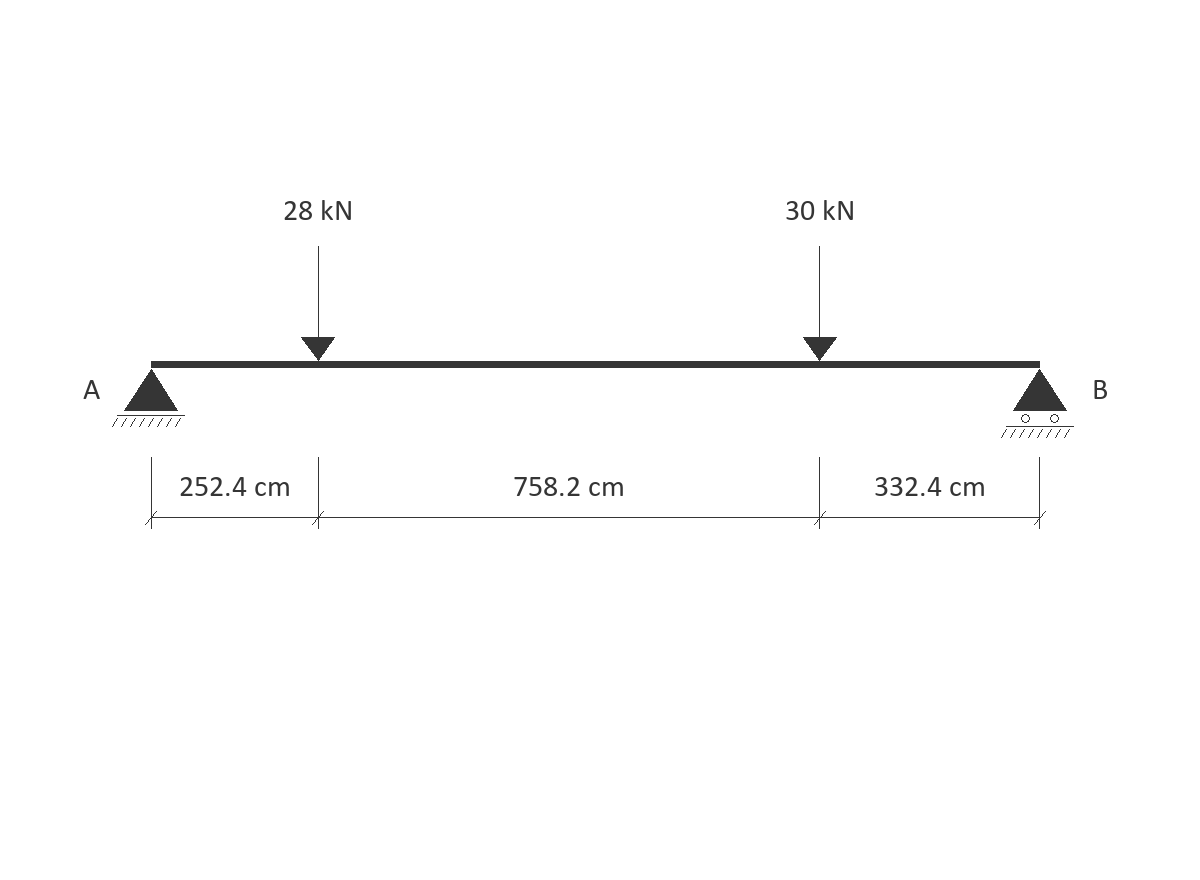pin_support: (112, 369, 185, 427)
point_load: (301, 246, 335, 361), (803, 246, 837, 361)
roller_support: (1001, 369, 1074, 438)
